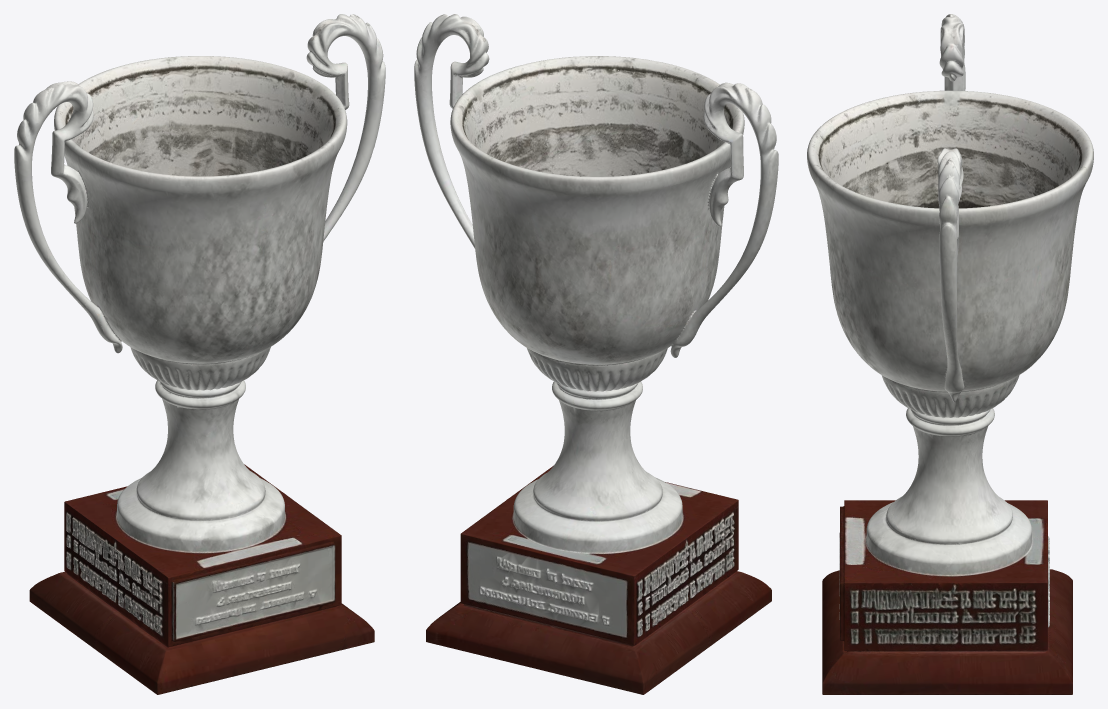
File: espagne.glb
The picture shows the model from 3 angles, left to right: view 1: azimuth 30°, elevation 25°; view 2: azimuth 150°, elevation 25°; view 3: azimuth 270°, elevation 25°; orthographic projection. The views are drawn at different scales.
Visible parts, largest first — view 1: mesh_node; view 2: mesh_node; view 3: mesh_node.
Boxes of the visible parts, <box> form: mesh_node: <box>14,14,385,694</box>; mesh_node: <box>414,14,778,694</box>; mesh_node: <box>807,14,1093,694</box>.
Size of the model in its own units: 1.27 by 1.9 by 0.8841.
Materials: 1 (1 with a texture image).
